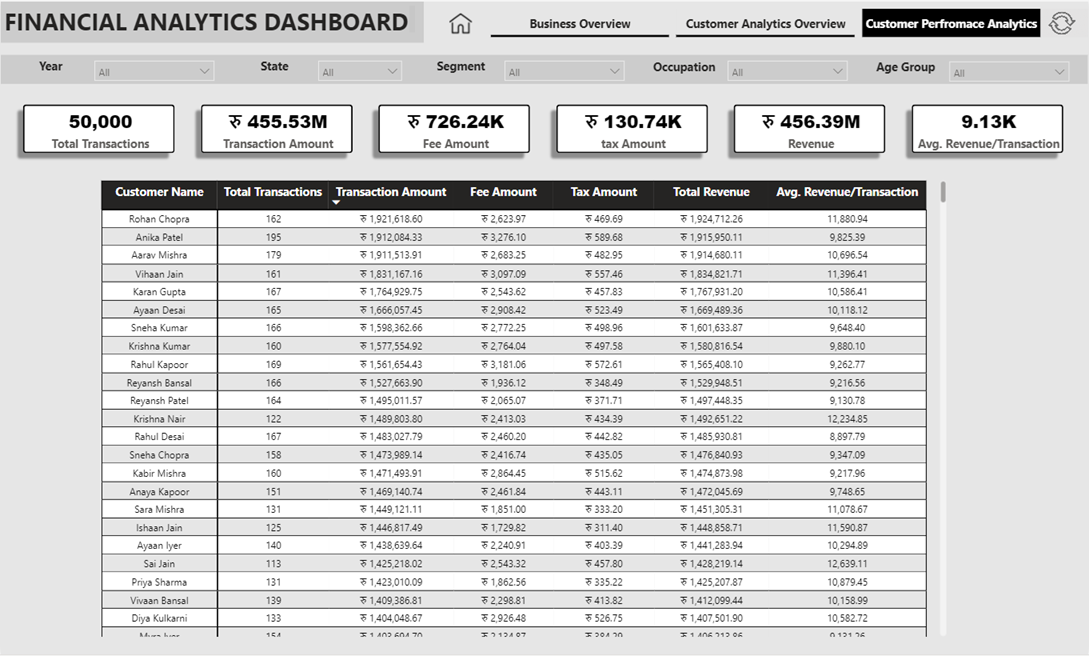

The dashboard page shown, as its layout file describes it:
{"tool":"powerbi","page":{"name":"Customer Perfromace Analytics","canvas":[1500,900],"ordinal":3},"visuals":[{"type":"shape","box":[0,0,583.9,56.8],"z":0,"group":"g6"},{"type":"group","id":"g1","title":"Group 6","box":[18.8,71.3,285.2,39.1],"z":0,"group":"g8"},{"type":"actionButton","box":[1426.1,10.3,74.4,39.3],"z":1000},{"type":"group","id":"g2","title":"Group 7","box":[327.8,71.3,235.6,39.1],"z":1000,"group":"g8"},{"type":"textbox","box":[0,0,576.6,49.6],"z":2000,"group":"g6"},{"type":"group","id":"g3","title":"Group 8","box":[584.1,71.3,285.2,40.1],"z":3000,"group":"g8"},{"type":"cardVisual","fields":{"Data":["finance_transactions csv.Total Transactions","finance_transactions csv.Total Transaction Amount","Sum(finance_transactions csv.fee_amount)","Sum(finance_transactions csv.tax_amount)","finance_transactions csv.Revenue","finance_transactions csv.Avg. Revenue/Transaction"]},"box":[0,111.6,1500.5,129.2],"z":3000},{"type":"group","id":"g4","title":"Group 1","box":[0,71.3,1500.5,42.4],"z":4000},{"type":"group","id":"g5","title":"Group 9","box":[1198.2,72.5,285.4,38.8],"z":5000,"group":"g8"},{"type":"pivotTable","fields":{"Rows":["customers csv.customer_name"],"Values":["finance_transactions csv.Total Transactions","finance_transactions csv.Total Transaction Amount","Sum(finance_transactions csv.fee_amount)","Sum(finance_transactions csv.tax_amount)","finance_transactions csv.Revenue","finance_transactions csv.Avg. Revenue/Transaction"]},"box":[133.3,240.8,1176,638.6],"z":5000},{"type":"group","id":"g6","title":"Group 2","box":[0,0,583.9,56.8],"z":5002},{"type":"pageNavigator","box":[675.8,10.3,758.5,39.3],"z":5003},{"type":"actionButton","box":[597.3,10.3,74.4,39.3],"z":5004},{"type":"slicer","fields":{"Values":["finance_transactions csv.Transaction_Year"]},"box":[118.8,71.3,185,38.8],"z":6000,"group":"g1"},{"type":"group","id":"g7","title":"Group 10","box":[892,71.8,285.4,39.5],"z":6000,"group":"g8"},{"type":"slicer","fields":{"Values":["customers csv.state"]},"box":[427.8,71.3,135.5,39.3],"z":7000,"group":"g2"},{"type":"shape","box":[0,73.7,1500.5,40.3],"z":7000,"group":"g4"},{"type":"slicer","fields":{"Values":["customers csv.customer_segment"]},"box":[684.1,71.3,185,39.3],"z":8000,"group":"g3"},{"type":"group","id":"g8","title":"Slicer","box":[18.8,71.3,1465,40],"z":8001,"group":"g4"},{"type":"slicer","fields":{"Values":["customers csv.occupation"]},"box":[992.1,71.8,185,39.1],"z":9000,"group":"g7"},{"type":"slicer","fields":{"Values":["customers csv.age_group"]},"box":[1298.2,72.5,185,39.3],"z":9000,"group":"g5"},{"type":"textbox","box":[18.8,71.3,100,38.8],"z":10000,"group":"g1"},{"type":"textbox","box":[892,72.4,100.5,38.8],"z":10000,"group":"g7"},{"type":"textbox","box":[1198.2,72.5,100,39.3],"z":10000,"group":"g5"},{"type":"textbox","box":[584.1,71.3,100,39.3],"z":10002,"group":"g3"},{"type":"textbox","box":[327.8,71.8,100,38.8],"z":10002,"group":"g2"}]}

Visuals, with their boxes in screenshot pixels (x1, y1, x2, y2), scaled from the page's 1500x900 canvas onto the 1089x656 screenshot:
shape: crop(0, 0, 424, 41)
"Group 6" group: crop(14, 52, 221, 80)
actionButton: crop(1035, 8, 1088, 36)
"Group 7" group: crop(238, 52, 409, 80)
textbox: crop(0, 0, 419, 36)
"Group 8" group: crop(424, 52, 631, 81)
cardVisual - finance_transactions csv.Total Transactions x finance_transactions csv.Total Transaction Amount: crop(0, 81, 1088, 176)
"Group 1" group: crop(0, 52, 1088, 83)
"Group 9" group: crop(870, 53, 1077, 81)
pivotTable - customers csv.customer_name x finance_transactions csv.Total Transactions: crop(97, 176, 951, 641)
"Group 2" group: crop(0, 0, 424, 41)
pageNavigator: crop(491, 8, 1041, 36)
actionButton: crop(434, 8, 488, 36)
slicer - finance_transactions csv.Transaction_Year: crop(86, 52, 221, 80)
"Group 10" group: crop(648, 52, 855, 81)
slicer - customers csv.state: crop(311, 52, 409, 81)
shape: crop(0, 54, 1088, 83)
slicer - customers csv.customer_segment: crop(497, 52, 631, 81)
"Slicer" group: crop(14, 52, 1077, 81)
slicer - customers csv.occupation: crop(720, 52, 855, 81)
slicer - customers csv.age_group: crop(942, 53, 1077, 81)
textbox: crop(14, 52, 86, 80)
textbox: crop(648, 53, 721, 81)
textbox: crop(870, 53, 942, 81)
textbox: crop(424, 52, 497, 81)
textbox: crop(238, 52, 311, 81)
